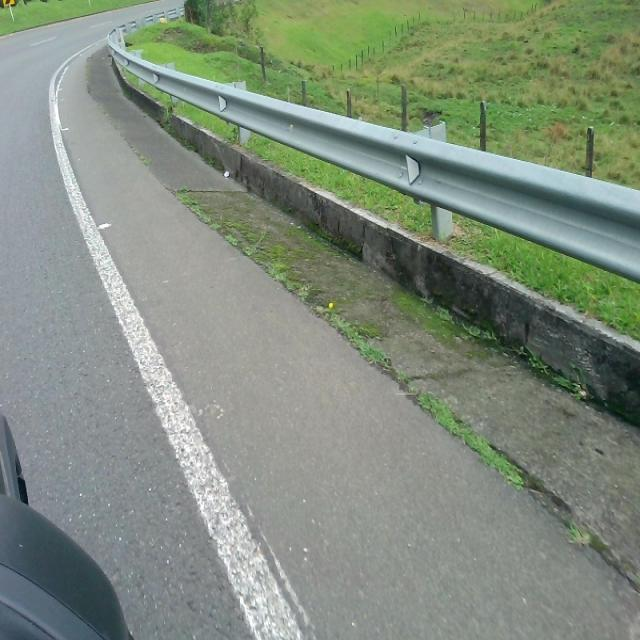DITCH: (2, 66, 637, 638), (60, 29, 639, 636)
